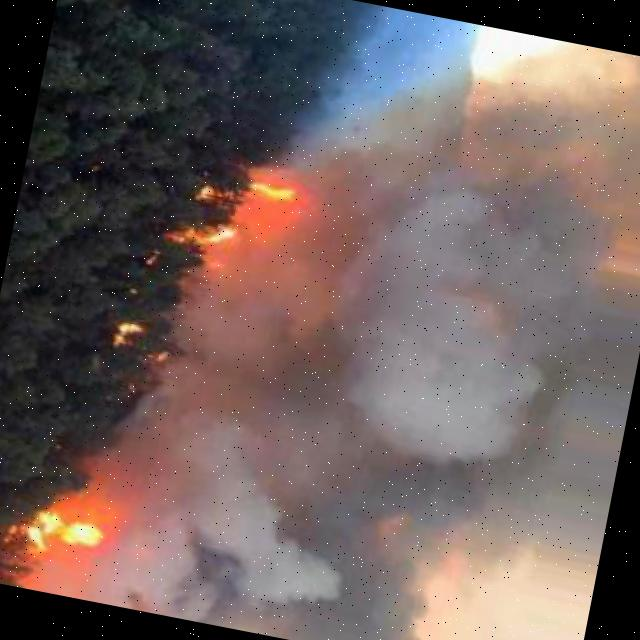fire: (18, 503, 117, 568), (234, 169, 317, 216), (175, 211, 249, 262), (107, 313, 174, 355), (0, 550, 30, 588)
